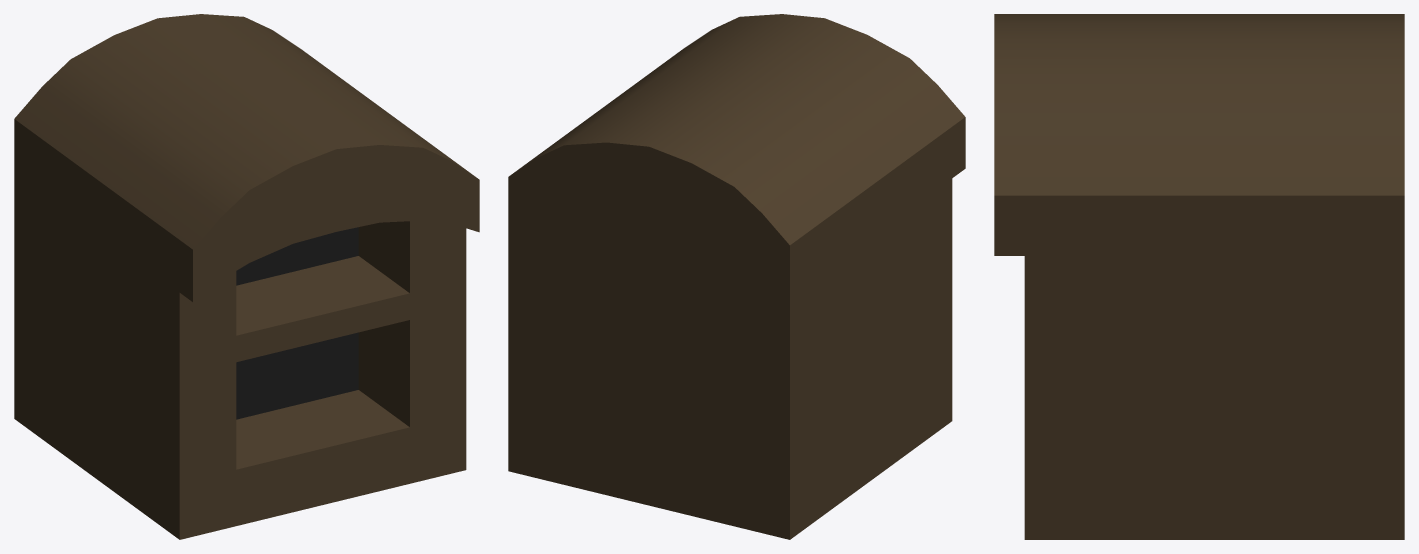
The model's file is PS_Oven.fbx.
3 views of the same model, side by side, from view 1: azimuth 30°, elevation 25°; view 2: azimuth 150°, elevation 25°; view 3: azimuth 270°, elevation 25° (orthographic). The views are drawn at different scales.
Parts seen in each view (by area): view 1: PS_Oven; view 2: PS_Oven; view 3: PS_Oven.
Part boxes in pixels (x1,y1,x2,y2): PS_Oven: (14, 14, 479, 539); PS_Oven: (508, 14, 965, 539); PS_Oven: (994, 14, 1404, 539).
Bounding box in the file's own units: 1 × 1.22 × 1.08.
